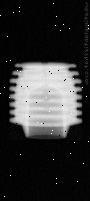Novodent: (9, 60, 82, 140)
